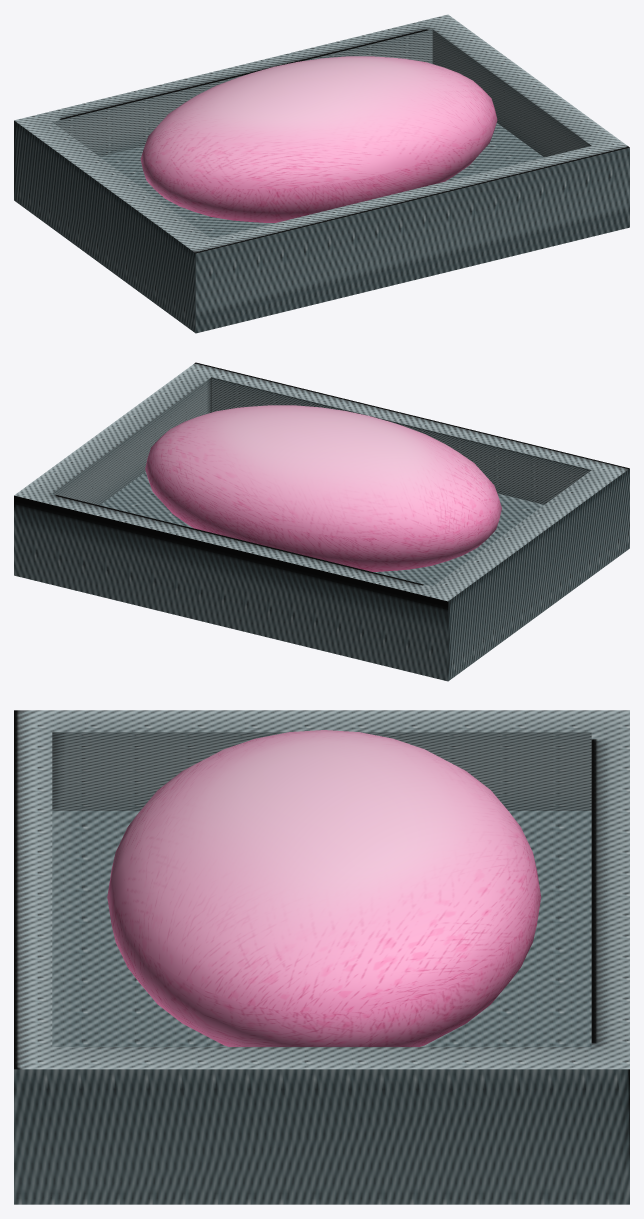
Rendered from Soap.FBX.
3 views of the same model, one above another, from view 1: azimuth 30°, elevation 25°; view 2: azimuth 150°, elevation 25°; view 3: azimuth 270°, elevation 25° (orthographic). The views are drawn at different scales.
Visible parts, largest first — view 1: Box074, Sphere002; view 2: Box074, Sphere002; view 3: Box074, Sphere002.
Boxes of the visible parts, box(x1,y1,x2,y2) form: Box074: box(14, 14, 629, 333); Sphere002: box(140, 56, 497, 222); Box074: box(14, 362, 629, 681); Sphere002: box(145, 405, 501, 571); Box074: box(14, 710, 629, 1204); Sphere002: box(107, 730, 541, 1046).
Size of the model in its own units: 3.98 by 1.14 by 2.89.
2 materials, 2 textured.
